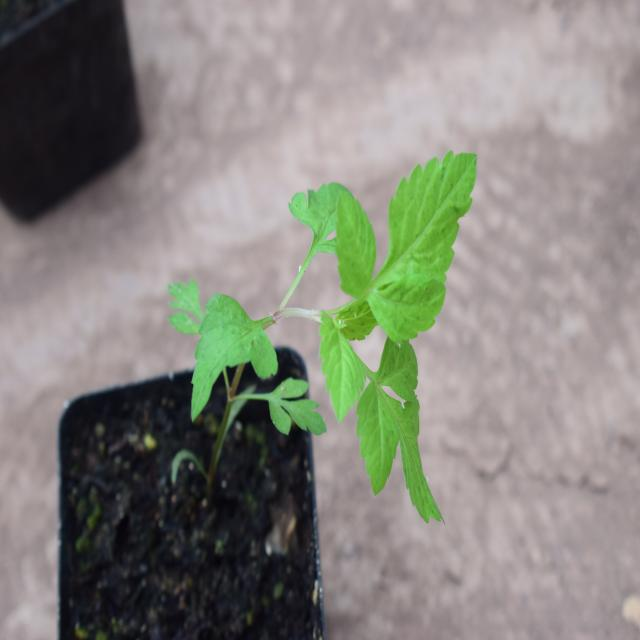Bidens pilosa: (178, 121, 486, 529)
